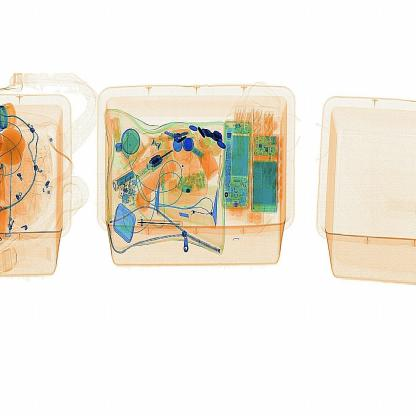wrench: (129, 218, 188, 232)
